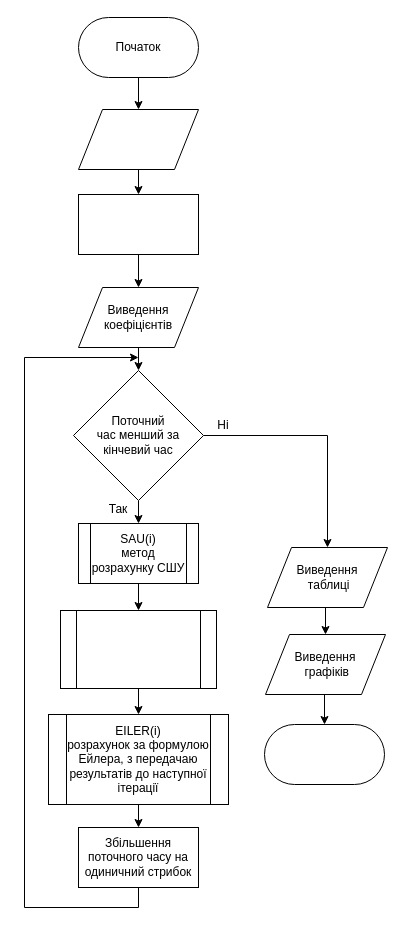
Some shapes in this 405 by 933 pixel diagram are drawn without their labels. Here are the shapes that lost their labels. From the top down, the centre of each, then its label:
At point 138,139: "Введення початкових даних".
At point 138,224: "Розрахунок коефіцієнтів".
At point 138,649: "DIN(i) розрахунок значень за розв'язком диференціального рівняння".
At point 324,754: "Кінець".
